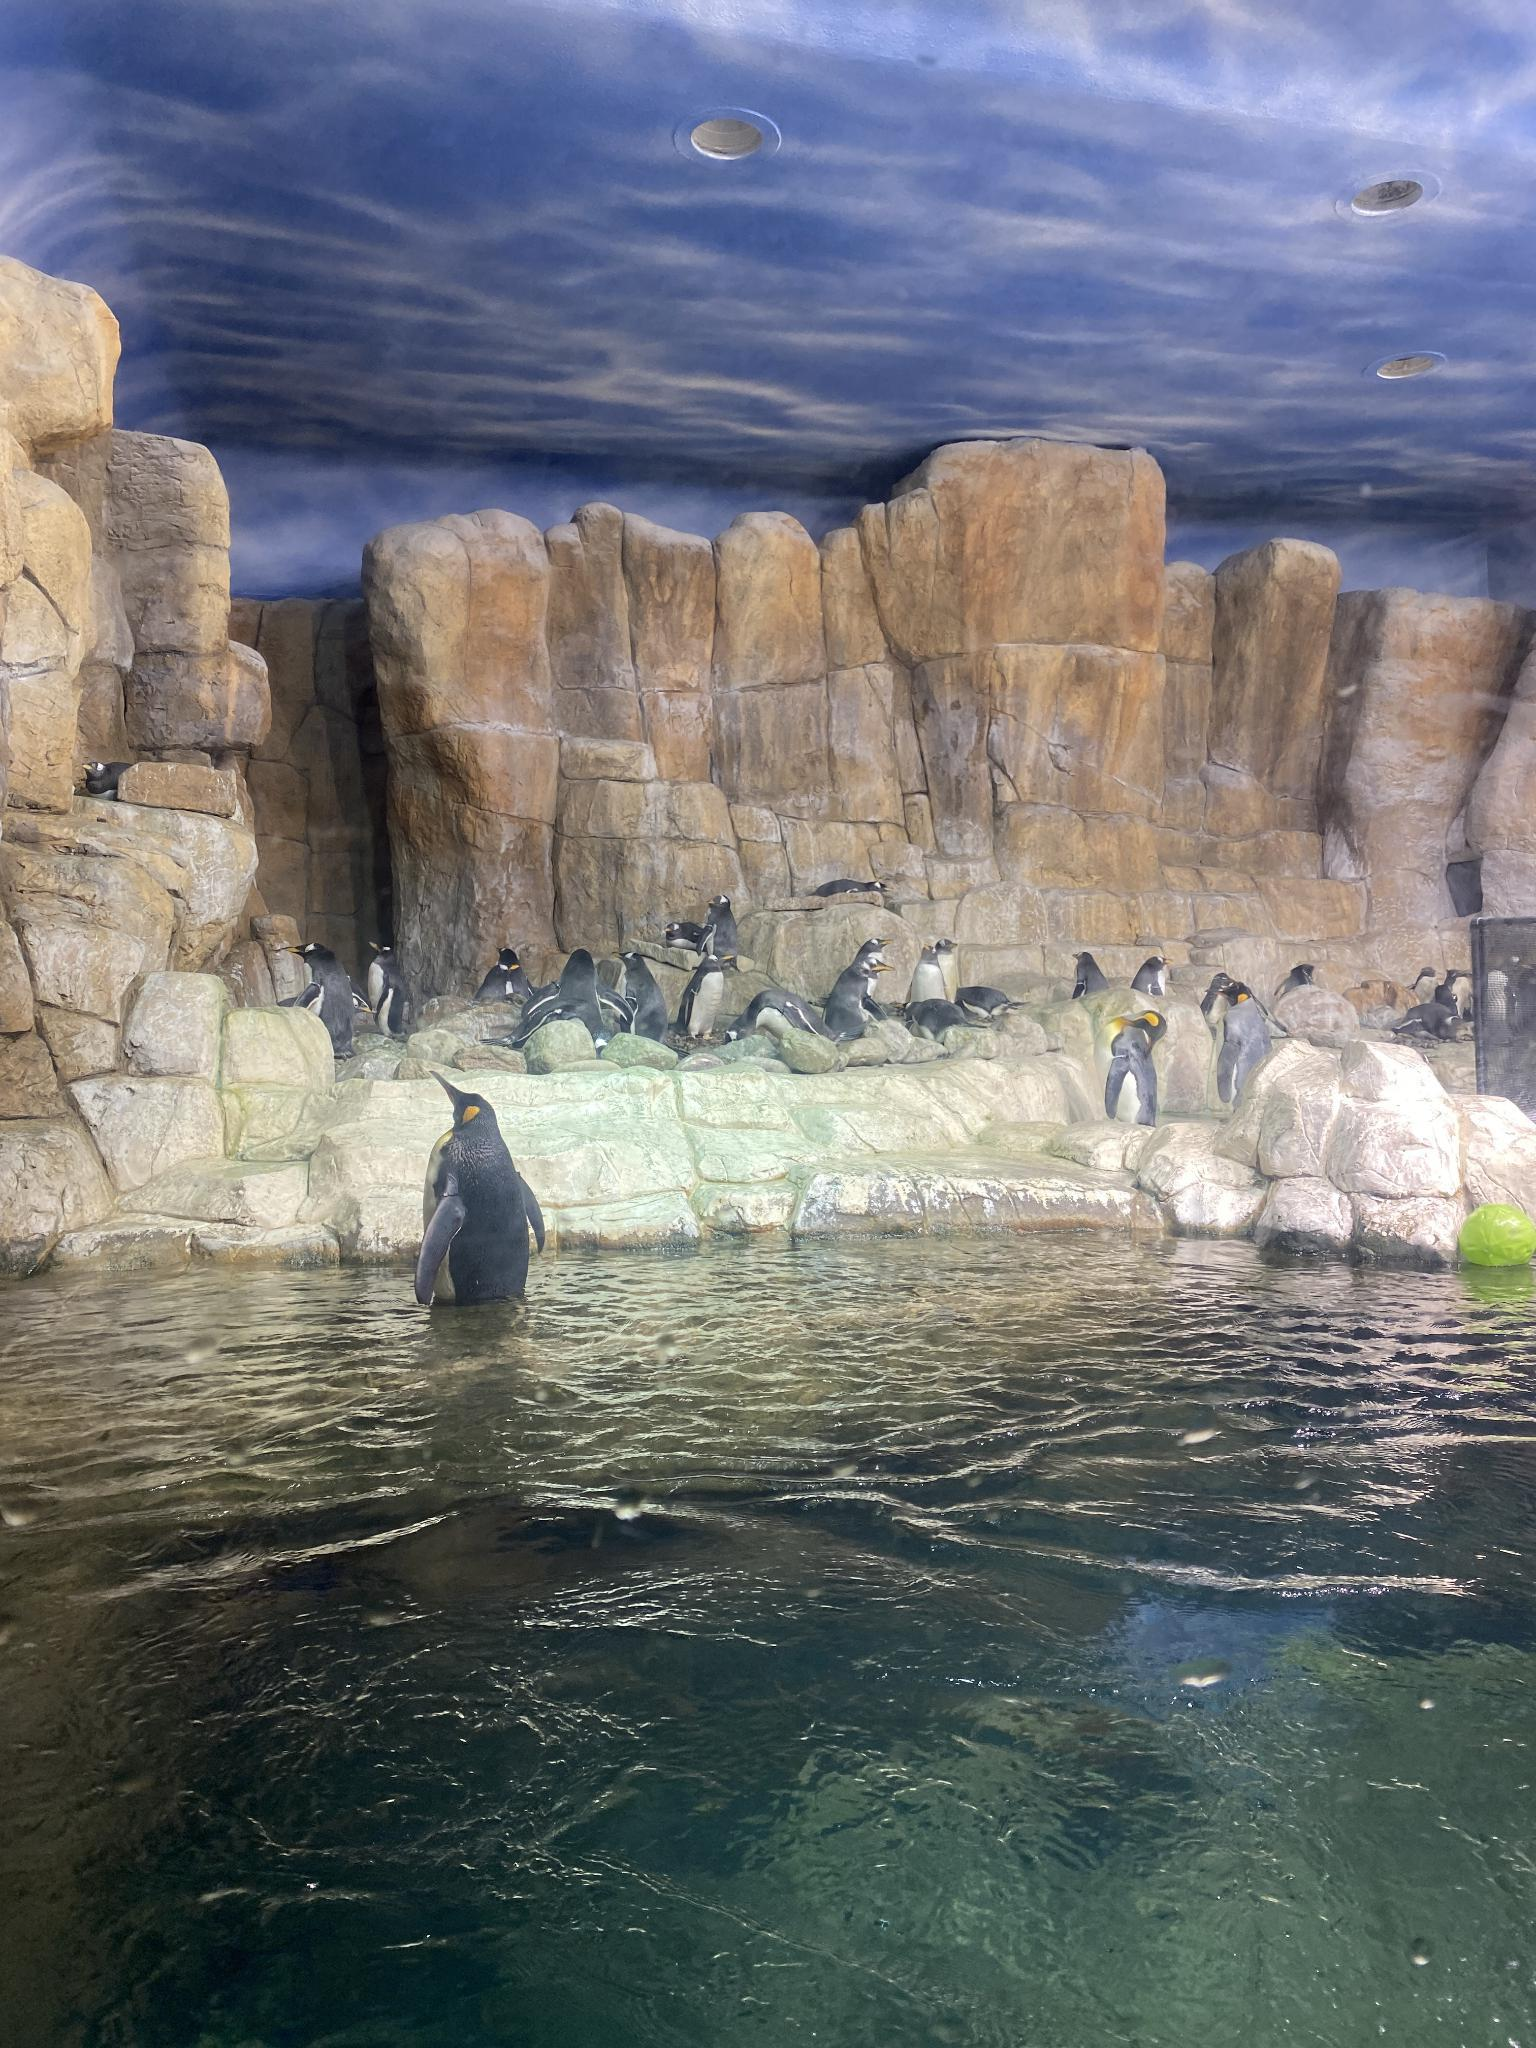penguin: (407, 1064, 545, 1305), (479, 948, 600, 1048), (1092, 1009, 1167, 1127), (281, 942, 353, 1061), (1205, 985, 1270, 1118), (899, 992, 1020, 1047), (1400, 956, 1470, 1042), (608, 948, 670, 1043), (824, 958, 894, 1037), (676, 956, 736, 1040), (366, 939, 413, 1042), (478, 943, 536, 1006), (1483, 955, 1526, 1024), (695, 893, 741, 959), (908, 945, 950, 1008), (81, 760, 144, 798), (1276, 959, 1320, 1011), (808, 879, 899, 900), (1131, 956, 1175, 997), (1070, 951, 1107, 998), (660, 921, 712, 951), (936, 939, 958, 1006), (855, 939, 892, 961)
